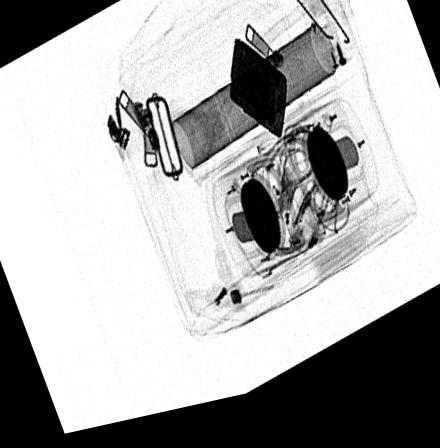Lighter: (229, 46, 287, 152)
